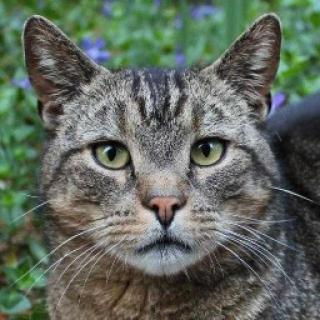cat: (22, 14, 290, 288)
nose: (138, 183, 193, 230)
